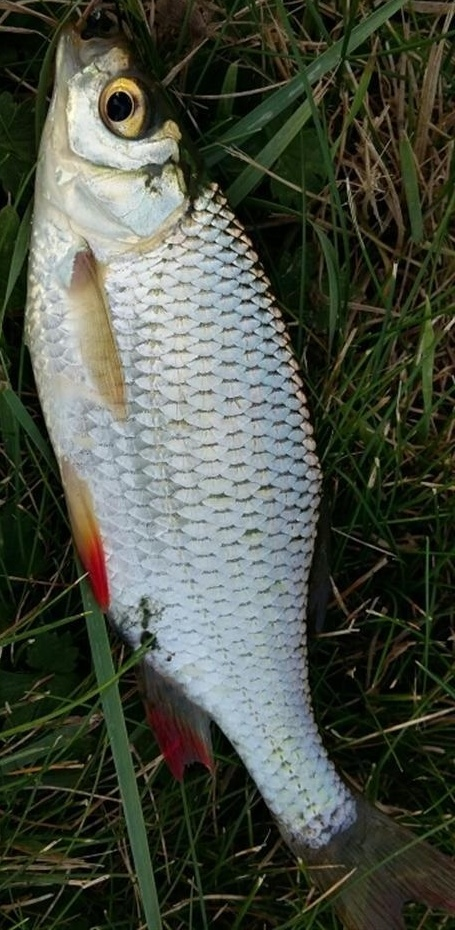Scardinius erythrophthalmus: (20, 20, 455, 930)
